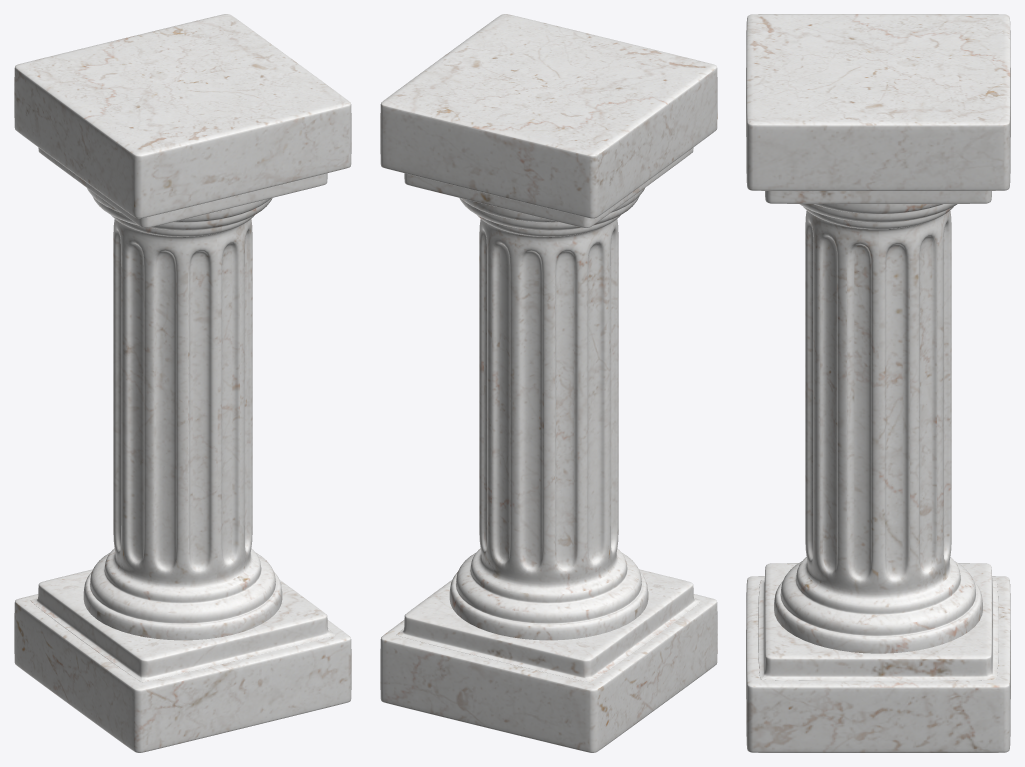
The model's file is Pillar.fbx.
3 views of the same model, side by side, from view 1: azimuth 30°, elevation 25°; view 2: azimuth 150°, elevation 25°; view 3: azimuth 270°, elevation 25° (orthographic). The views are drawn at different scales.
Visible parts, largest first — view 1: Pillar; view 2: Pillar; view 3: Pillar.
Boxes of the visible parts, box(x1,y1,x2,y2) form: Pillar: box(14, 14, 351, 752); Pillar: box(380, 14, 717, 752); Pillar: box(746, 14, 1010, 752).
Bounding box in the file's own units: 811 × 2131 × 811.
